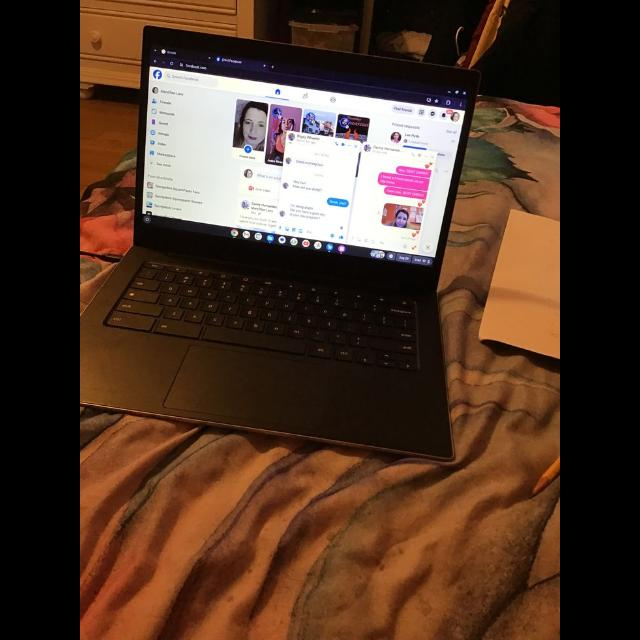laptop: (80, 26, 478, 459)
